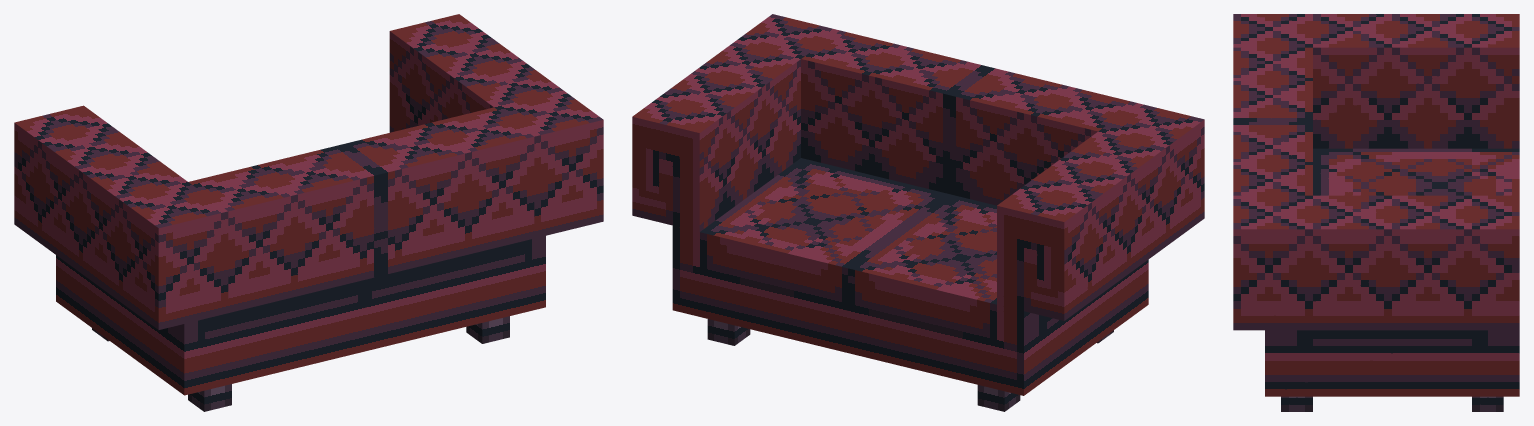
File: sofa_red.gltf
3 views of the same model, side by side, from view 1: azimuth 30°, elevation 25°; view 2: azimuth 150°, elevation 25°; view 3: azimuth 270°, elevation 25° (orthographic). The views are drawn at different scales.
Visible parts, largest first — view 1: cube (×6); view 2: cube (×6); view 3: cube (×6).
Boxes of the visible parts, x1,y1,x2,y2 form: cube (×6): (14, 14, 603, 411); cube (×6): (632, 14, 1204, 411); cube (×6): (1233, 14, 1519, 411).
Size of the model in its own units: 2 by 0.9375 by 1.12.
Materials: 1 (1 with a texture image).
